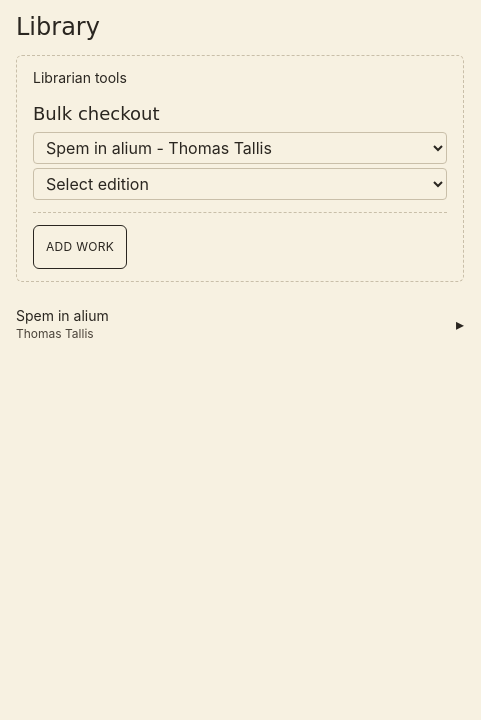
Scenario: /library — copy sort is PARTITION-then-sort: lent group first, available group always nr-sorted (#126 / #114 F6) › nr: lent copies sorted by nr, then available copies sorted by nr — partition boundary holds
Expected: the list item with test id "library-work-work-1" is shown, [16,298,464,350]
Click the button with test id "library-work-toggle-work-1": [62, 316] box [16,306,464,342]
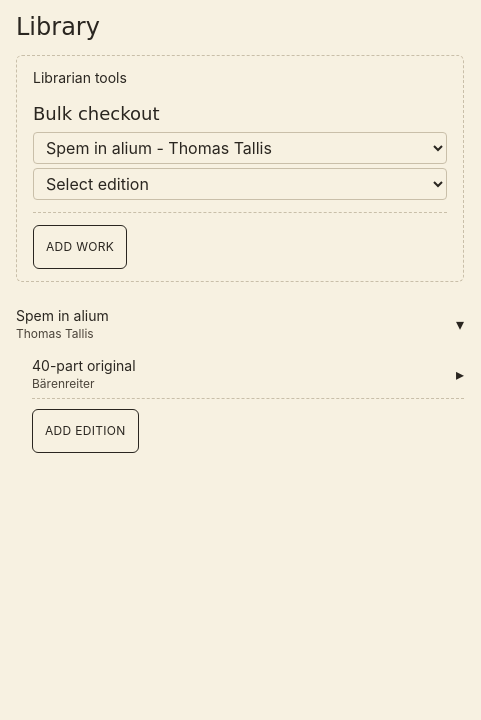
Expected: the element with test id "library-edition-edition-1" is shown, [32,350,464,399]
Click the button with test id "library-edition-toggle-edition-1": [84, 366] box [32,356,464,392]
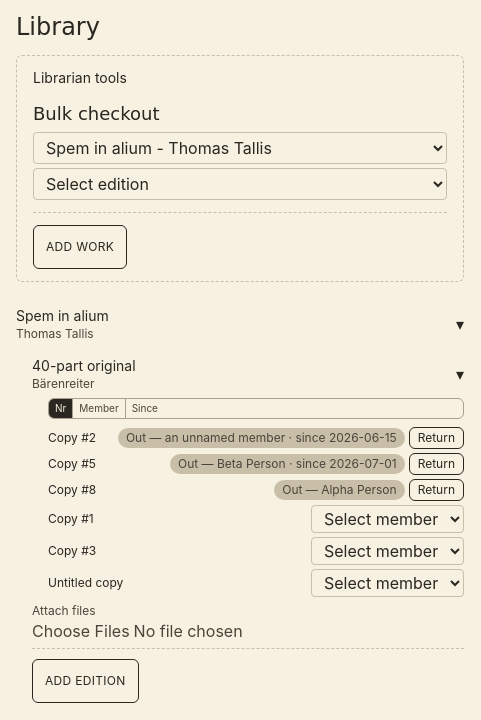
Expected: the element with test id "library-copy-lent-alpha" is shown, [48,479,464,501]
